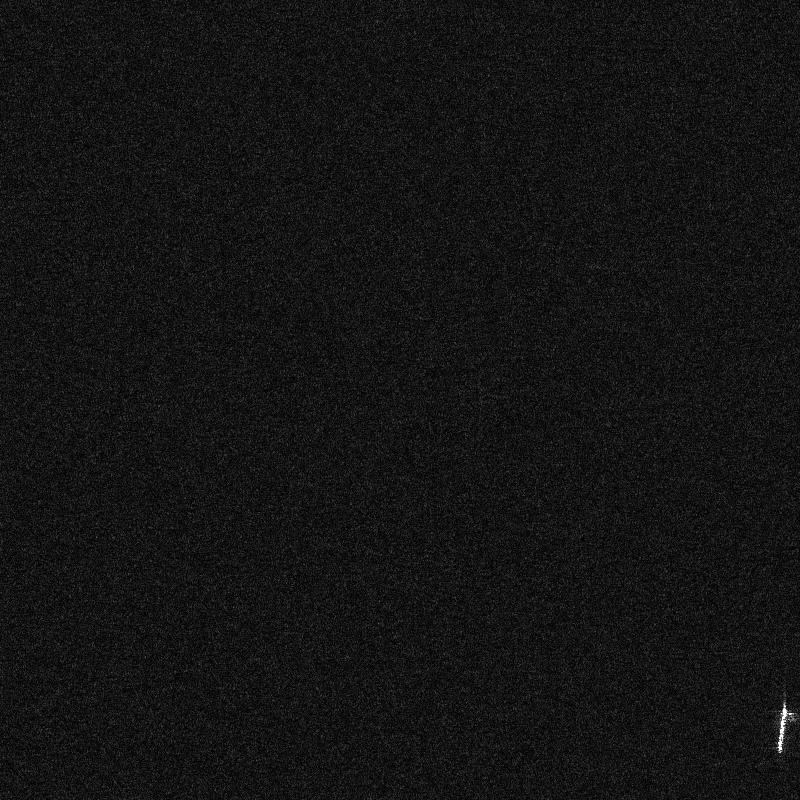ship: (777, 704, 787, 753)
